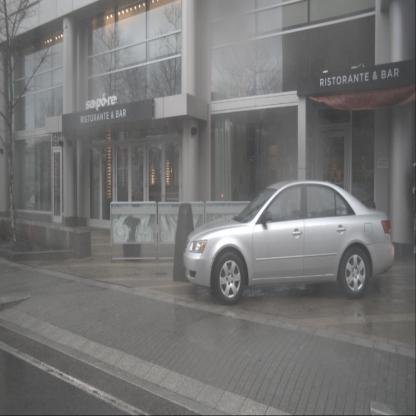vehicle-car: (183, 181, 395, 306)
